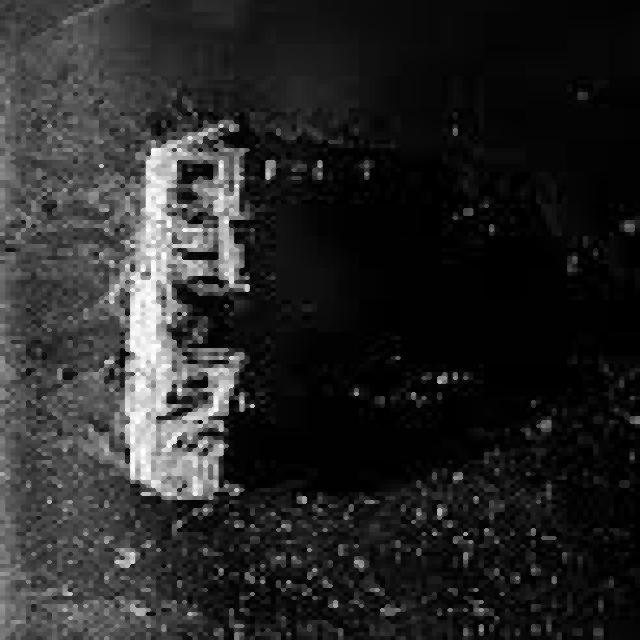Ship: (115, 107, 267, 524)
